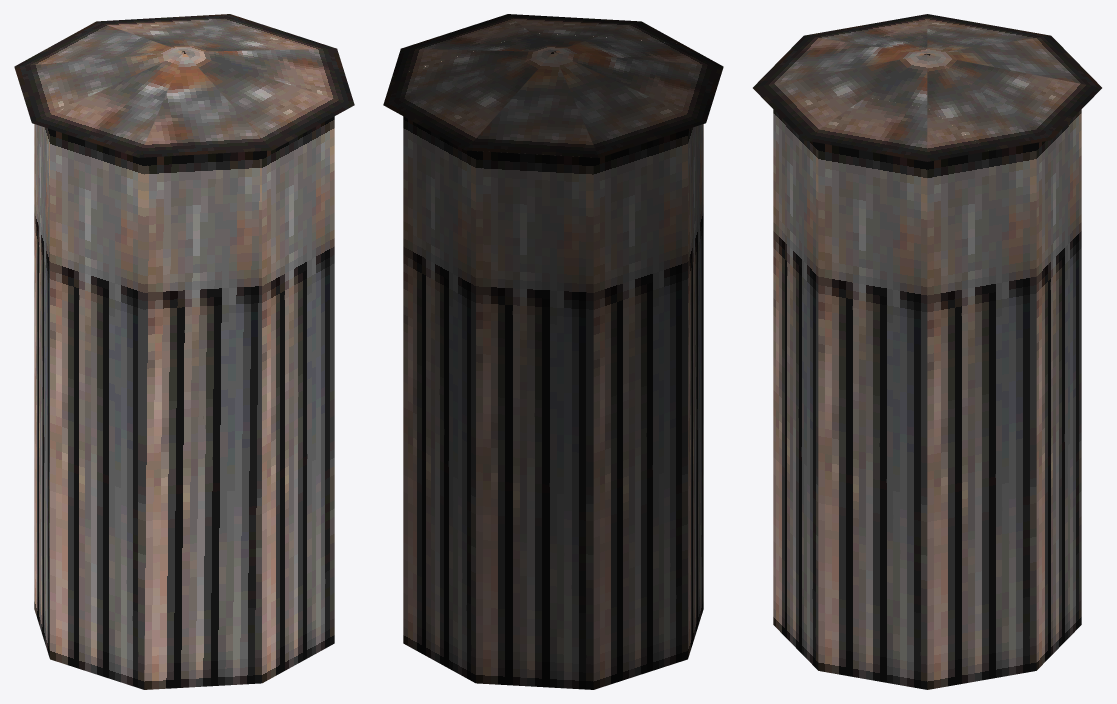
The model's file is Pbin1Z.obj.
3 views of the same model, side by side, from view 1: azimuth 30°, elevation 25°; view 2: azimuth 150°, elevation 25°; view 3: azimuth 270°, elevation 25° (orthographic).
Bounding box in the file's own units: 3024 × 5438 × 3024.
2 materials, 2 textured.
